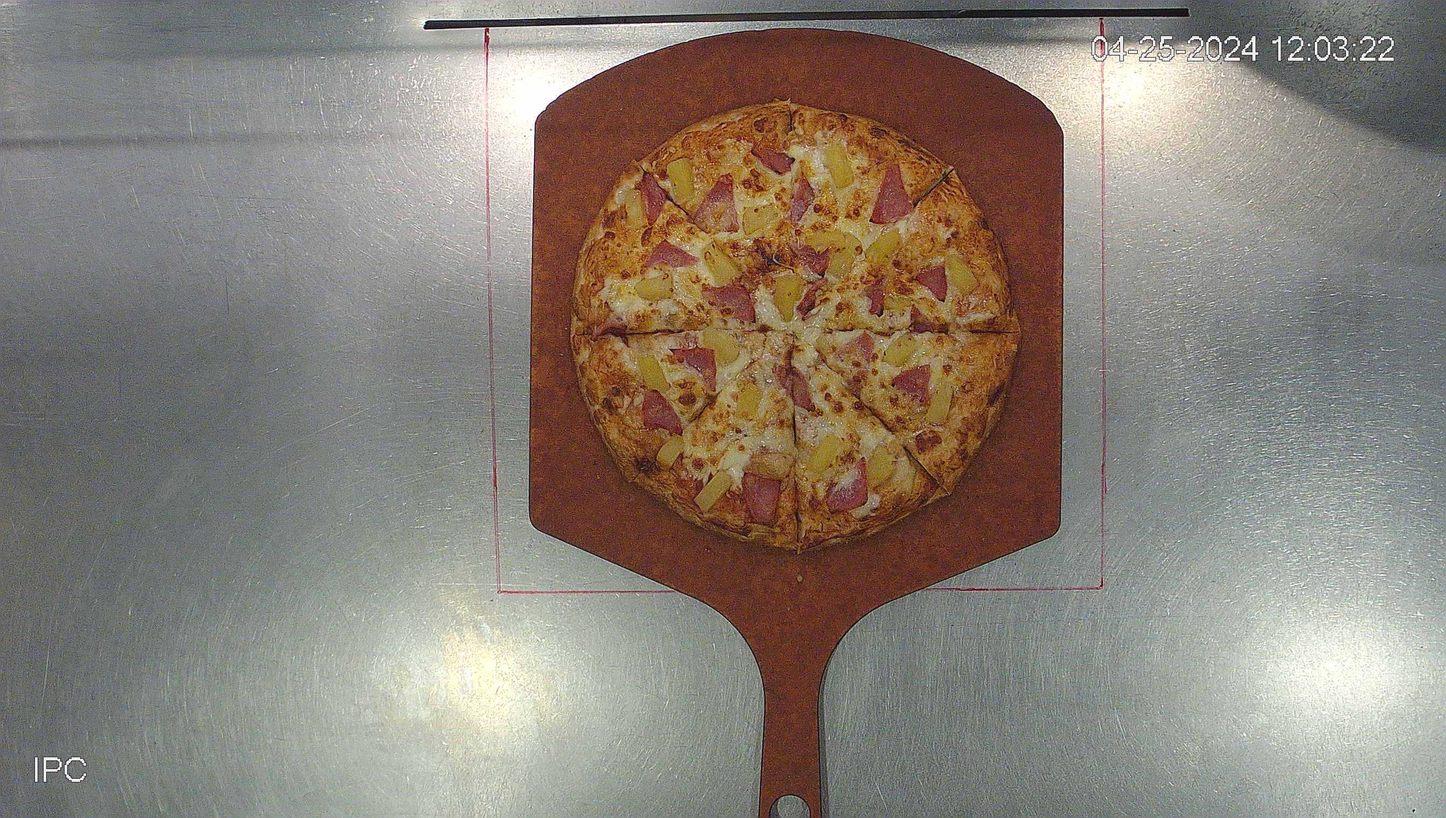manager_choice: (567, 102, 1021, 560)
